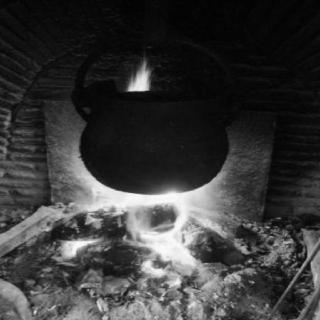Fire: (51, 171, 220, 273), (116, 56, 168, 100)
